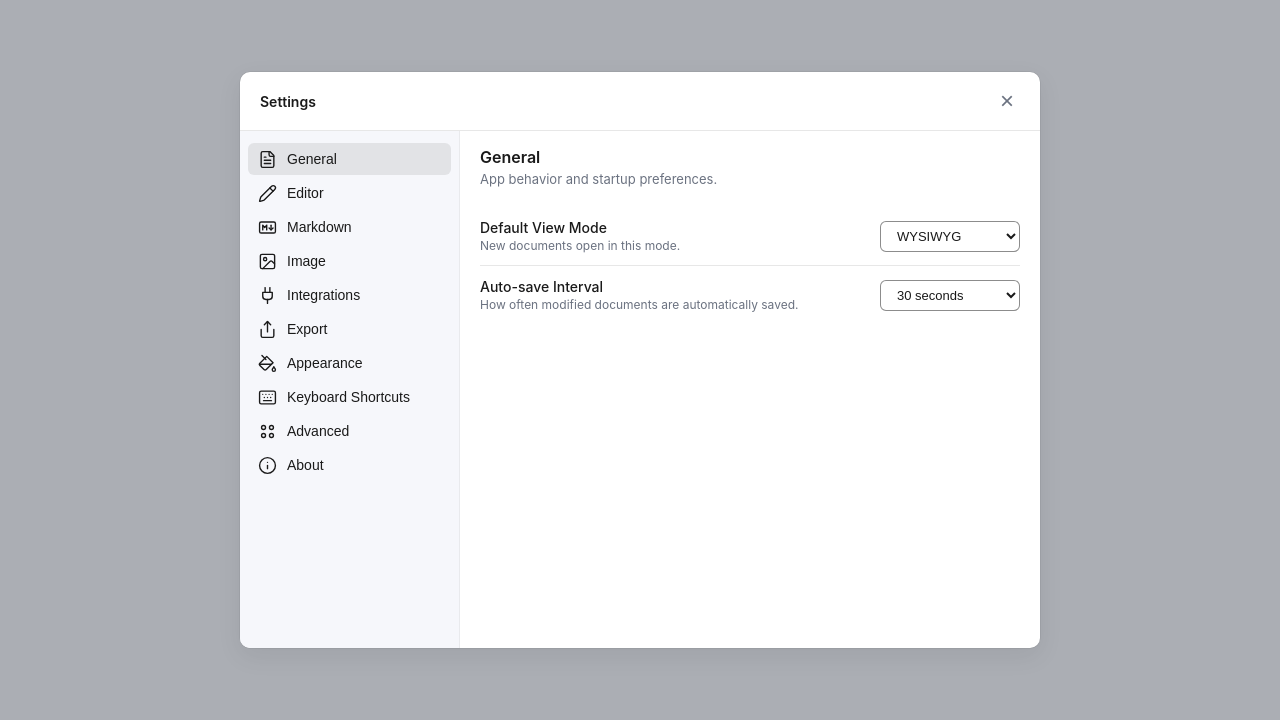
Test case: WI-6 McpServerStatus › UI-04 a failed status fetch shows no badge at all
The width and height of the screenshot is (1280, 720).
What coordinates should you click on to do the following:
click the button "Integrations"
I would click on:
 (350, 295)
Its box is 248,279 -> 451,311.
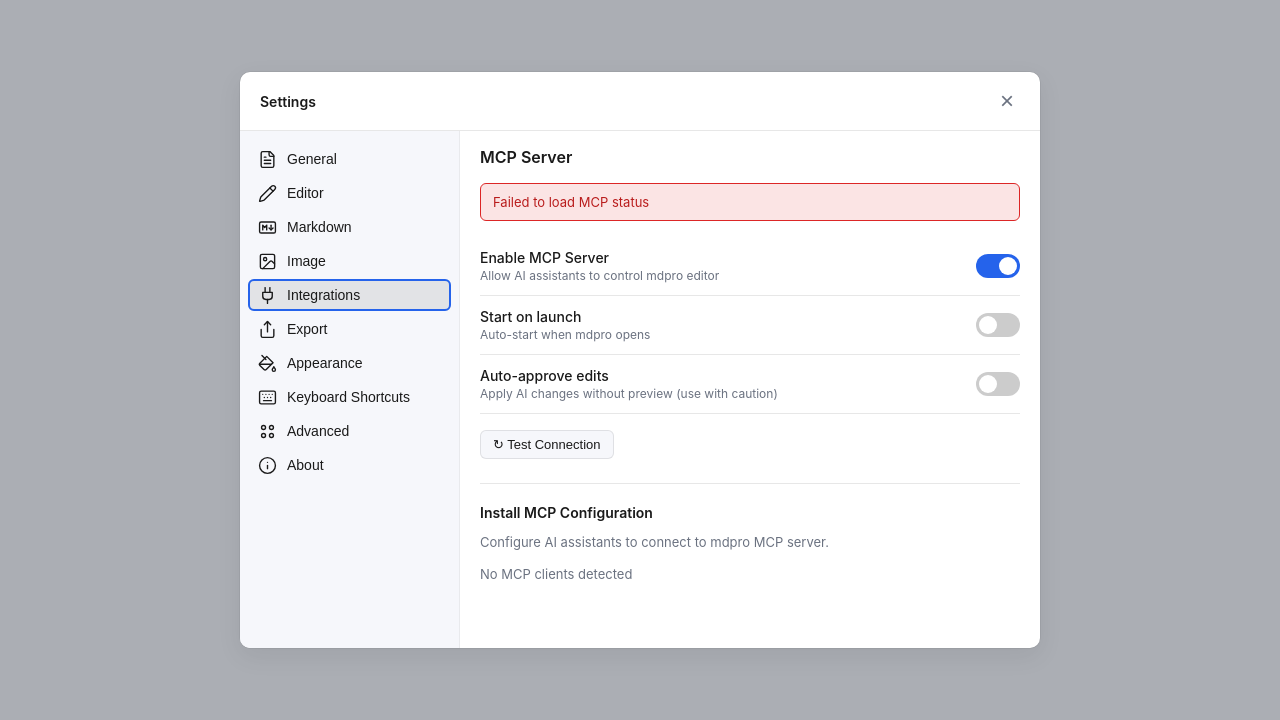
Expected: the switch labelled "Enable MCP Server" is shown, 976,254 -> 1020,278
Expected: the text "Failed to load MCP status" is shown, 480,183 -> 1020,221
